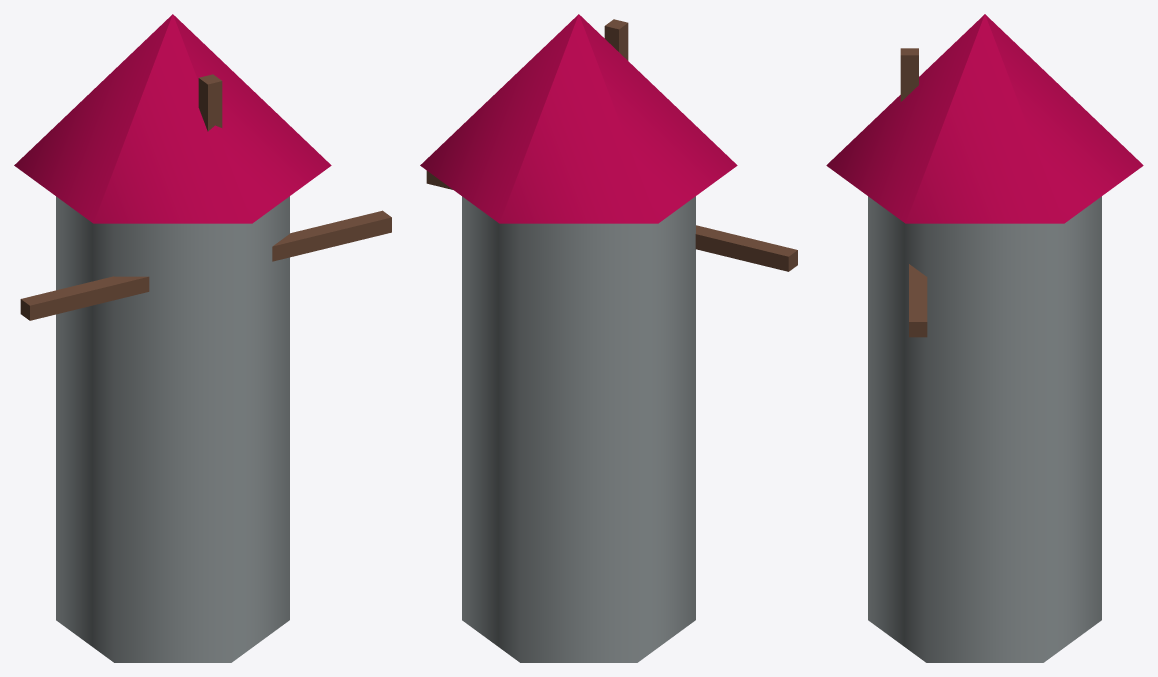
File: windmill.glb
3 renders of one model, left to right at view 1: azimuth 30°, elevation 25°; view 2: azimuth 150°, elevation 25°; view 3: azimuth 270°, elevation 25°, orthographic.
Size of the model in its own units: 5 by 8 by 3.8.
